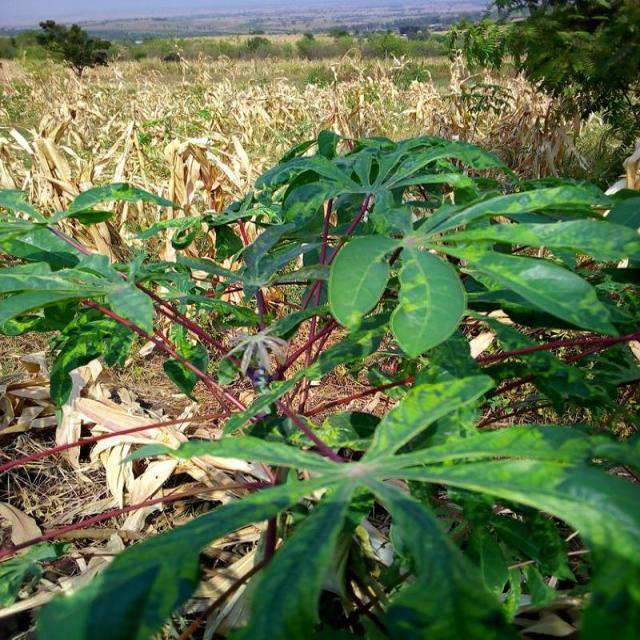cassava leaf: (2, 128, 640, 638), (390, 243, 468, 360), (328, 232, 402, 330)
